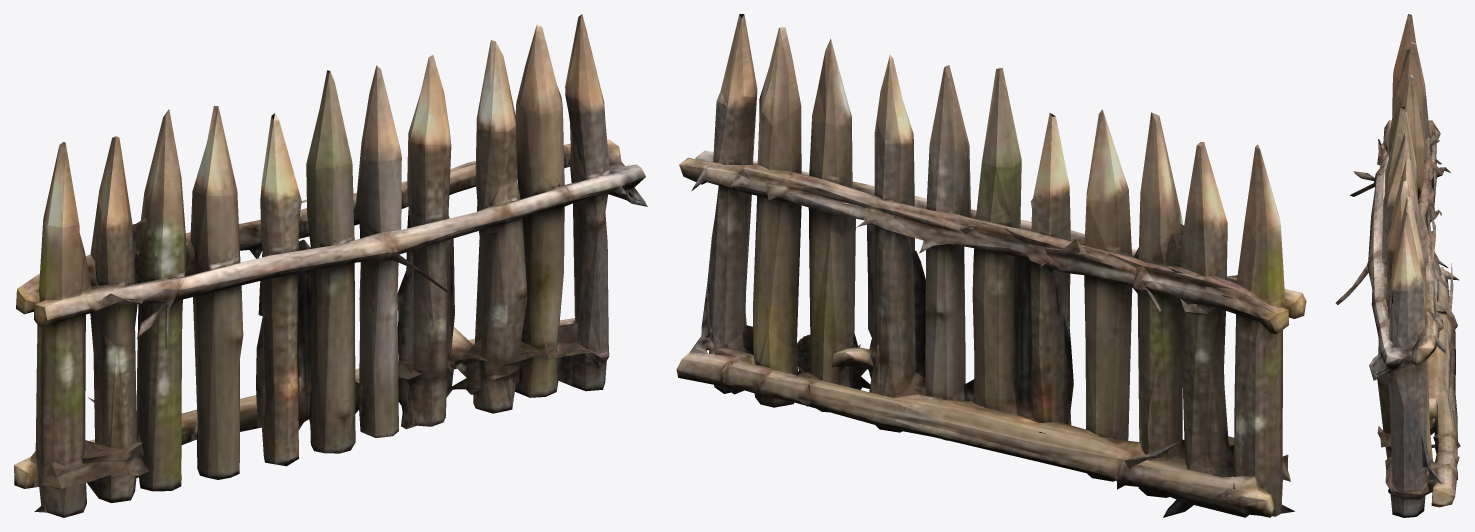
File: ga3_palisade_lod0.glb
3 renders of one model, left to right at view 1: azimuth 30°, elevation 25°; view 2: azimuth 150°, elevation 25°; view 3: azimuth 270°, elevation 25°, orthographic. The views are drawn at different scales.
Parts seen in each view (by area): view 1: ga3_palisade_lod0; view 2: ga3_palisade_lod0; view 3: ga3_palisade_lod0.
Part boxes in pixels (x1=…): ga3_palisade_lod0: x1=14, y1=14, x2=647, y2=517; ga3_palisade_lod0: x1=676, y1=14, x2=1306, y2=517; ga3_palisade_lod0: x1=1335, y1=14, x2=1460, y2=517.
Size of the model in its own units: 3.13 by 1.89 by 0.7049.
1 material, 1 textured.
